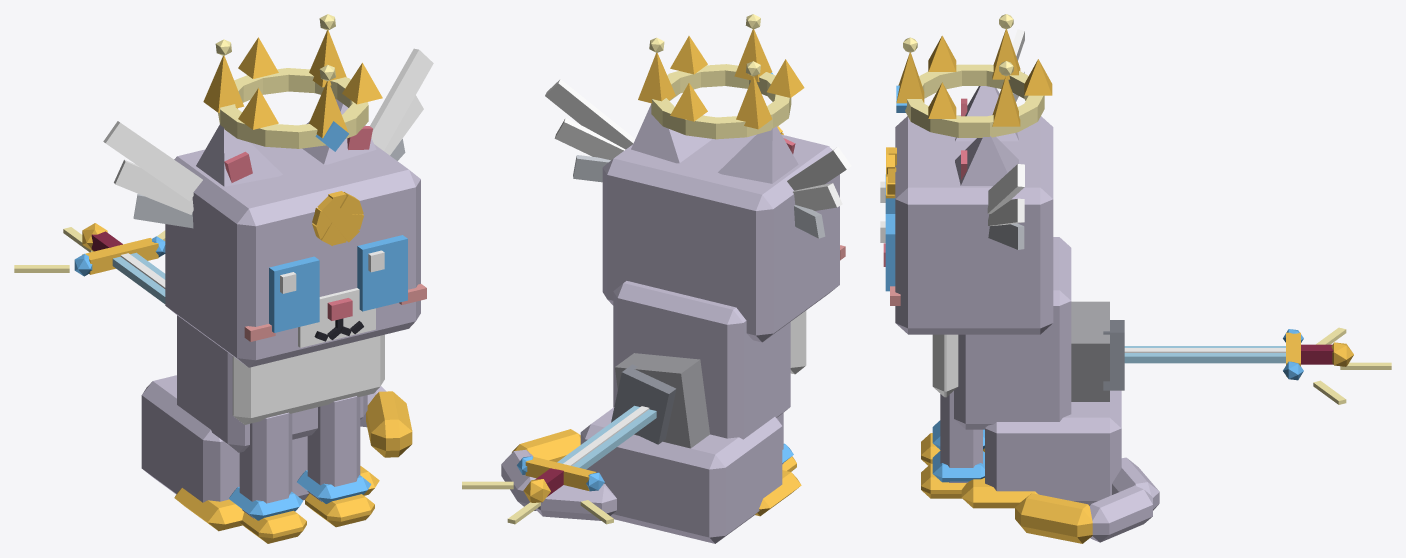
The model's file is CatCafe_Cat_Excalipurr_Sit.fbx.
3 views of the same model, side by side, from view 1: azimuth 30°, elevation 25°; view 2: azimuth 150°, elevation 25°; view 3: azimuth 270°, elevation 25° (orthographic). The views are drawn at different scales.
Visible parts, largest first — view 1: CatCafe_Cat_Excalipurr_Sit_Head, CatCafe_Cat_Excalipurr_Sit_Body, CatCafe_Cat_Excalipurr_Sit_Prop, CatCafe_Cat_Excalipurr_Sit_LegF1, CatCafe_Cat_Excalipurr_Sit_LegF2, CatCafe_Cat_Excalipurr_Sit_Glow, CatCafe_Cat_Excalipurr_Sit_Eye2, CatCafe_Cat_Excalipurr_Sit_Eye1, CatCafe_Cat_Excalipurr_Sit_EarR, CatCafe_Cat_Excalipurr_Sit_Tail, CatCafe_Cat_Excalipurr_Sit_Prop2, CatCafe_Cat_Excalipurr_Sit_Blade_Glow (+1 smaller); view 2: CatCafe_Cat_Excalipurr_Sit_Body, CatCafe_Cat_Excalipurr_Sit_Head, CatCafe_Cat_Excalipurr_Sit_Prop, CatCafe_Cat_Excalipurr_Sit_Prop2, CatCafe_Cat_Excalipurr_Sit_Glow, CatCafe_Cat_Excalipurr_Sit_Tail, CatCafe_Cat_Excalipurr_Sit_Blade_Glow, CatCafe_Cat_Excalipurr_Sit_EarR, CatCafe_Cat_Excalipurr_Sit_EarL; view 3: CatCafe_Cat_Excalipurr_Sit_Head, CatCafe_Cat_Excalipurr_Sit_Body, CatCafe_Cat_Excalipurr_Sit_Prop, CatCafe_Cat_Excalipurr_Sit_Prop2, CatCafe_Cat_Excalipurr_Sit_Tail, CatCafe_Cat_Excalipurr_Sit_Glow, CatCafe_Cat_Excalipurr_Sit_LegF1, CatCafe_Cat_Excalipurr_Sit_Blade_Glow, CatCafe_Cat_Excalipurr_Sit_EarL, CatCafe_Cat_Excalipurr_Sit_EarR, CatCafe_Cat_Excalipurr_Sit_Eye1, CatCafe_Cat_Excalipurr_Sit_LegF2.
Part boxes in pixels (x1,y1,x2,y2): CatCafe_Cat_Excalipurr_Sit_Head: (165, 142, 426, 367); CatCafe_Cat_Excalipurr_Sit_Body: (141, 315, 384, 531); CatCafe_Cat_Excalipurr_Sit_Prop: (103, 30, 433, 228); CatCafe_Cat_Excalipurr_Sit_LegF1: (297, 396, 374, 527); CatCafe_Cat_Excalipurr_Sit_LegF2: (229, 412, 306, 543); CatCafe_Cat_Excalipurr_Sit_Glow: (215, 14, 368, 151); CatCafe_Cat_Excalipurr_Sit_Eye2: (269, 256, 319, 332); CatCafe_Cat_Excalipurr_Sit_Eye1: (357, 235, 407, 311); CatCafe_Cat_Excalipurr_Sit_EarR: (196, 124, 282, 186); CatCafe_Cat_Excalipurr_Sit_Tail: (360, 386, 412, 457); CatCafe_Cat_Excalipurr_Sit_Prop2: (74, 223, 165, 276); CatCafe_Cat_Excalipurr_Sit_Blade_Glow: (14, 227, 165, 303); CatCafe_Cat_Excalipurr_Sit_Body: (580, 281, 806, 543); CatCafe_Cat_Excalipurr_Sit_Head: (602, 115, 845, 342); CatCafe_Cat_Excalipurr_Sit_Prop: (545, 29, 851, 238); CatCafe_Cat_Excalipurr_Sit_Prop2: (517, 353, 709, 502); CatCafe_Cat_Excalipurr_Sit_Glow: (649, 14, 791, 139); CatCafe_Cat_Excalipurr_Sit_Tail: (501, 429, 616, 520); CatCafe_Cat_Excalipurr_Sit_Blade_Glow: (462, 405, 656, 524); CatCafe_Cat_Excalipurr_Sit_EarR: (718, 126, 798, 183); CatCafe_Cat_Excalipurr_Sit_EarL: (631, 104, 711, 163); CatCafe_Cat_Excalipurr_Sit_Head: (883, 115, 1053, 334); CatCafe_Cat_Excalipurr_Sit_Body: (932, 237, 1121, 508); CatCafe_Cat_Excalipurr_Sit_Prop: (896, 29, 1052, 249); CatCafe_Cat_Excalipurr_Sit_Prop2: (1071, 301, 1353, 401); CatCafe_Cat_Excalipurr_Sit_Tail: (1015, 457, 1159, 543); CatCafe_Cat_Excalipurr_Sit_Glow: (896, 14, 1044, 137); CatCafe_Cat_Excalipurr_Sit_LegF1: (921, 391, 984, 498); CatCafe_Cat_Excalipurr_Sit_Blade_Glow: (1124, 327, 1391, 404); CatCafe_Cat_Excalipurr_Sit_EarL: (955, 136, 1018, 185); CatCafe_Cat_Excalipurr_Sit_EarR: (955, 86, 1018, 141); CatCafe_Cat_Excalipurr_Sit_Eye1: (880, 214, 895, 291); CatCafe_Cat_Excalipurr_Sit_LegF2: (921, 420, 984, 465).
Bounding box in the file's own units: 1.58 × 2.16 × 2.28.
1 material, 1 textured.
